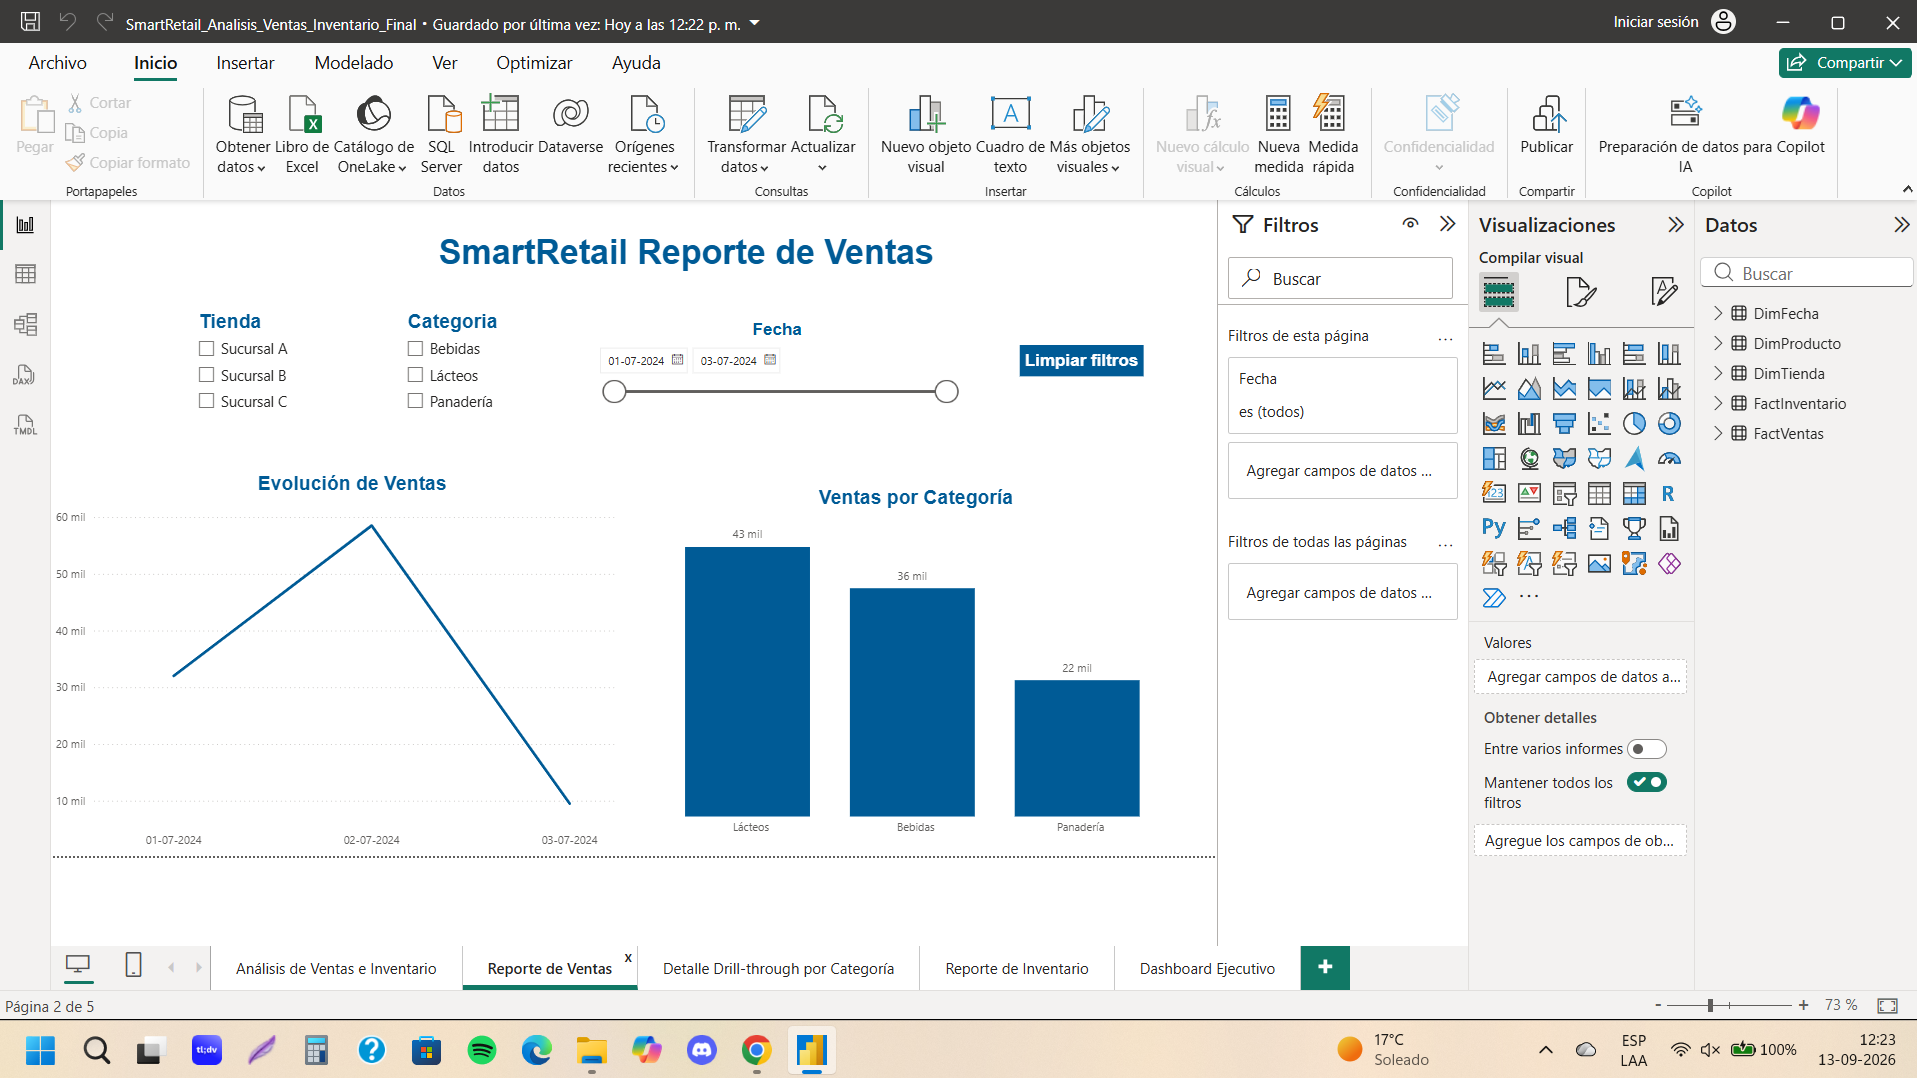

This screenshot's page, from the dashboard's own definition file:
{"tool":"powerbi","page":{"name":"Reporte de Ventas","canvas":[1280,720],"ordinal":1},"visuals":[{"type":"lineChart","title":"Evolución de Ventas","fields":{"Category":["ventas.Fecha.Variación.Jerarquía de fechas.Año"],"Y":["ventas.Ventas Totales"]},"box":[0,298.6,661.4,421.4],"z":0},{"type":"slicer","fields":{"Values":["DimTienda.Tienda"]},"box":[150,117.1,148.6,131.4],"z":1000},{"type":"slicer","fields":{"Values":["DimProducto.Categoria"]},"box":[378.6,117.1,141.4,131.4],"z":2000},{"type":"slicer","title":"Fecha","fields":{"Values":["ventas.Fecha"]},"box":[590,117.1,414.3,131.4],"z":3000},{"type":"clusteredColumnChart","title":"Ventas por Categoría","fields":{"Y":["ventas.Ventas Totales"],"Category":["DimProducto.Categoria"]},"box":[618.6,298.6,661.4,402.9],"z":4000},{"type":"textbox","box":[391.4,31.4,612.9,57.1],"z":5000},{"type":"actionButton","title":"Limpiar filtros","box":[1062.9,158.6,135.7,34.3],"z":6000}]}

Visuals, with their boxes on the page's 1280x720 design canvas (x1, y1, x2, y2). These are canvas units, not pixel positions in the 1917x1078 screenshot, which may show the page scaled, cropped or inside an application window:
"Evolución de Ventas" lineChart: detection(0, 299, 661, 720)
slicer - DimTienda.Tienda: detection(150, 117, 299, 248)
slicer - DimProducto.Categoria: detection(379, 117, 520, 248)
"Fecha" slicer: detection(590, 117, 1004, 248)
"Ventas por Categoría" clusteredColumnChart: detection(619, 299, 1280, 702)
textbox: detection(391, 31, 1004, 88)
"Limpiar filtros" actionButton: detection(1063, 159, 1199, 193)
